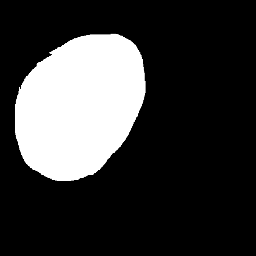mass: (18, 35, 139, 204)
